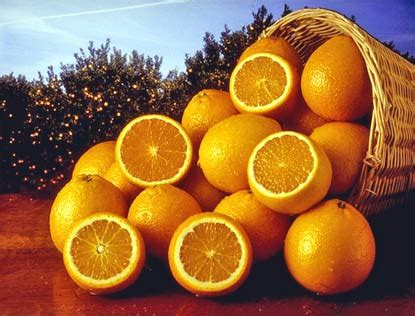orange: (281, 196, 380, 295), (300, 30, 378, 123), (48, 172, 128, 246), (126, 182, 200, 231), (181, 84, 233, 133)
